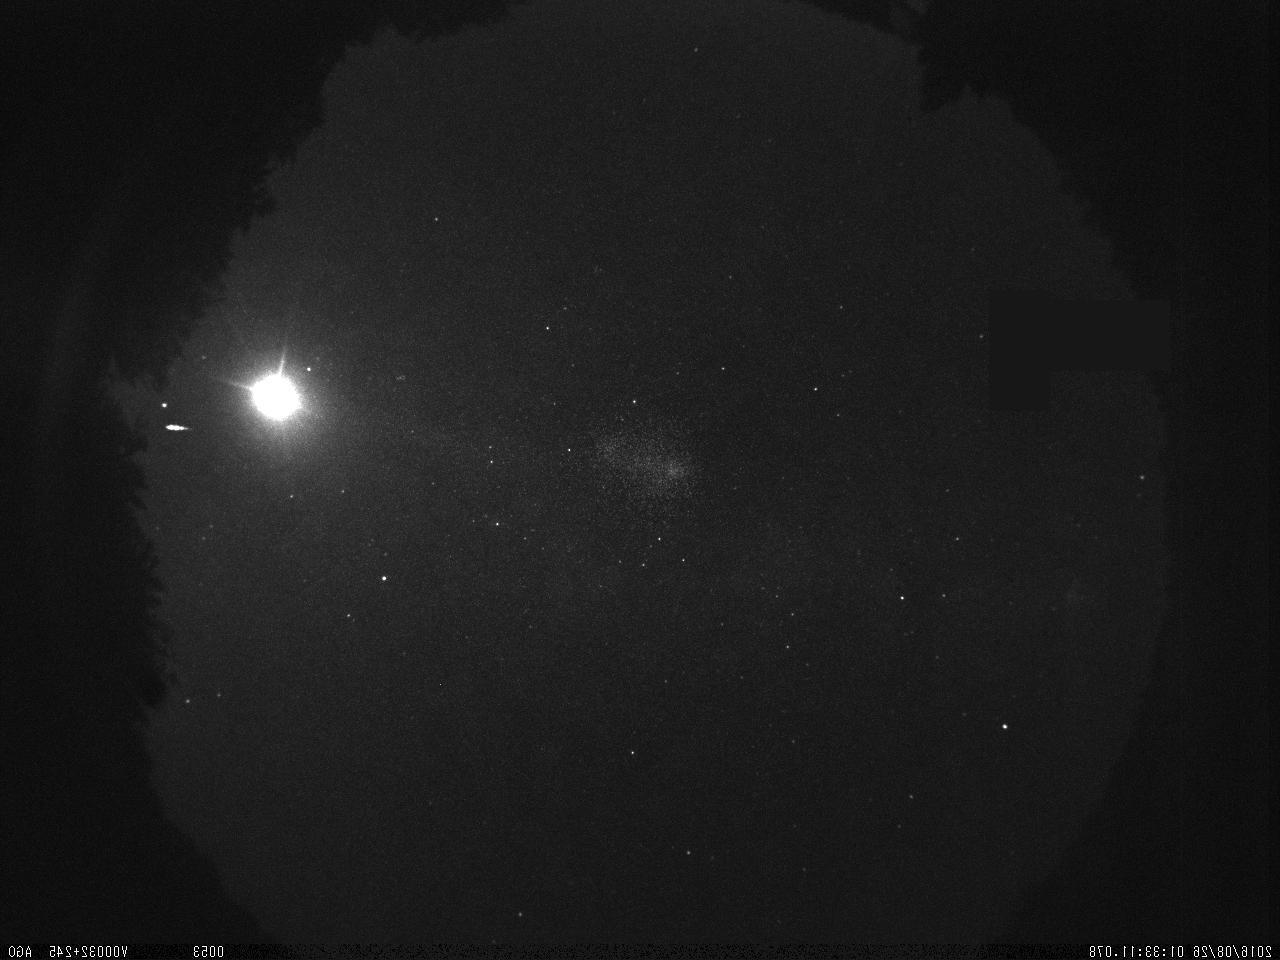meteor: (160, 421, 202, 441)
